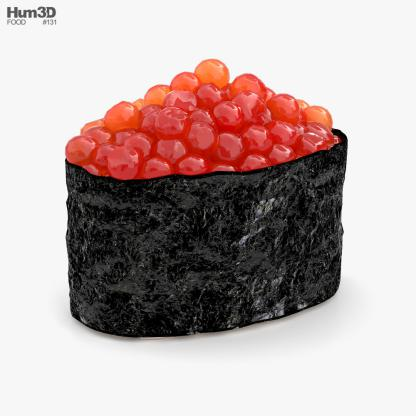ikura: (53, 51, 358, 340)
